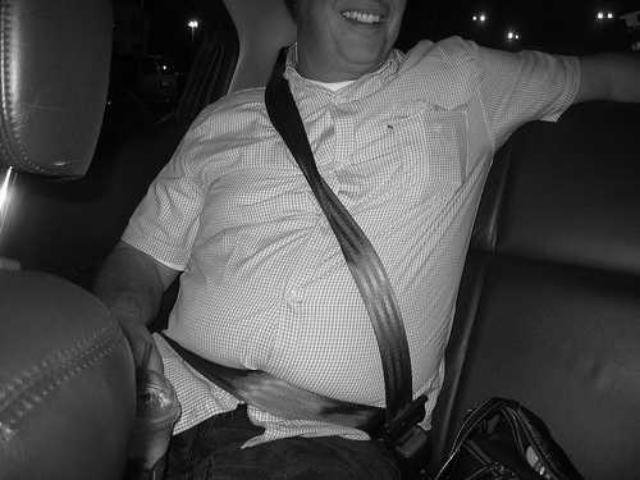SafeDriving: (335, 0, 390, 28)
Seatbelt: (158, 44, 434, 468)
